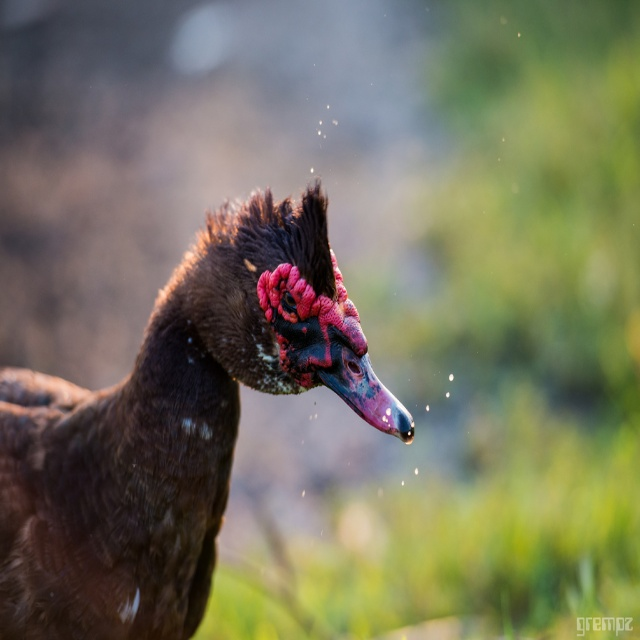Duck: (0, 183, 434, 614)
